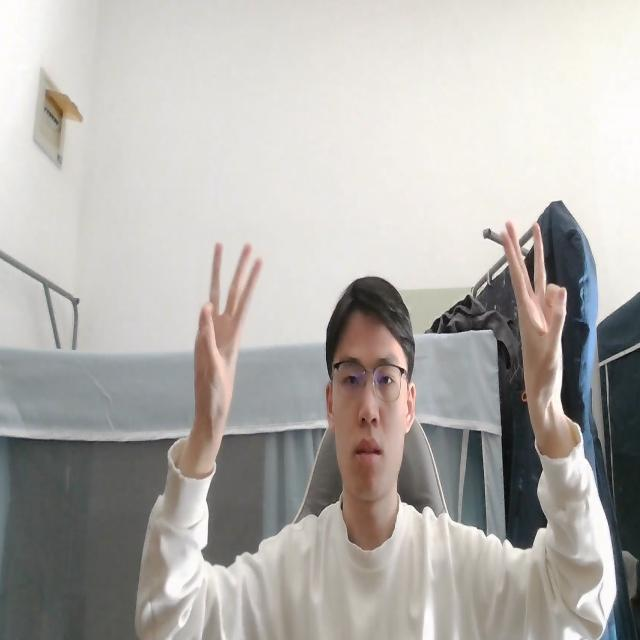three: (187, 232, 266, 466), (502, 211, 570, 423)
